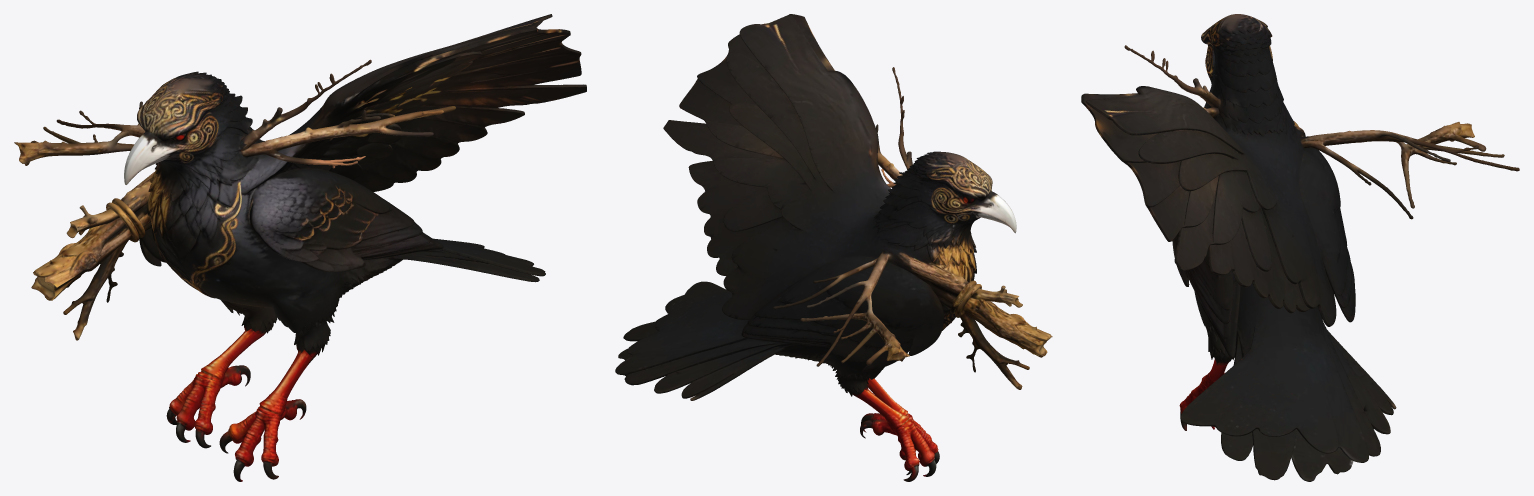
File: jing-wei.glb
The picture shows the model from 3 angles, left to right: view 1: azimuth 30°, elevation 25°; view 2: azimuth 150°, elevation 25°; view 3: azimuth 270°, elevation 25°; orthographic projection. The views are drawn at different scales.
Parts seen in each view (by area): view 1: node_0; view 2: node_0; view 3: node_0.
Boxes of the visible parts, x1,y1,x2,y2 form: node_0: [14, 14, 586, 481]; node_0: [615, 14, 1052, 481]; node_0: [1081, 14, 1519, 481].
Size of the model in its own units: 0.933 by 0.7889 by 0.7176.
1 material, 1 textured.
